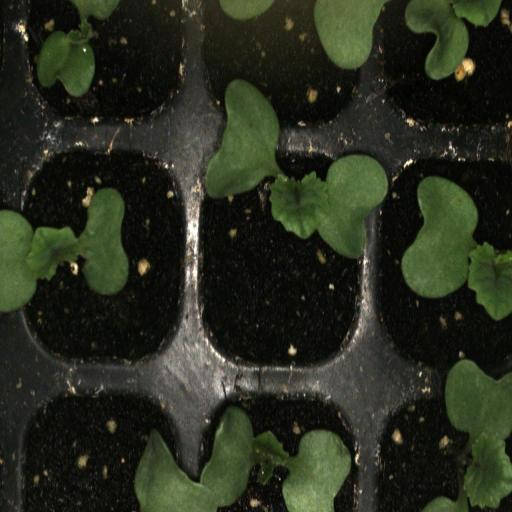Folha: (36, 0, 120, 97), (405, 0, 501, 80)
Germinacao: (192, 134, 372, 378), (12, 134, 193, 376), (375, 132, 512, 374), (196, 377, 375, 512), (369, 371, 512, 512)
